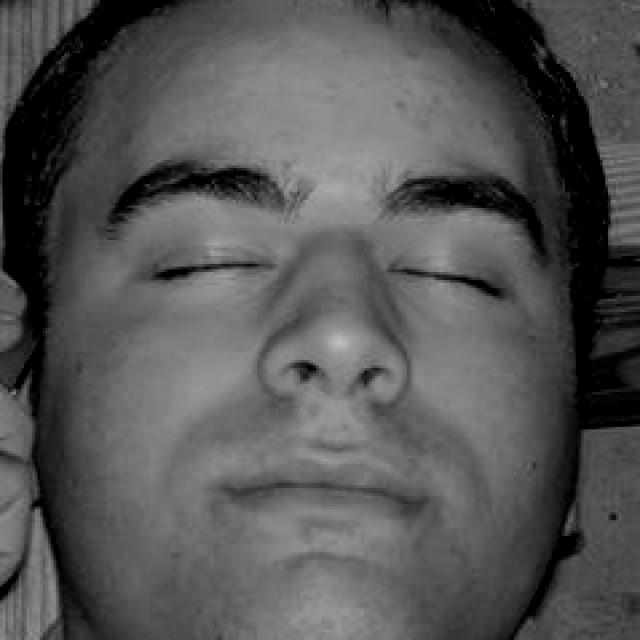real: (50, 4, 580, 640), (119, 216, 520, 320)
